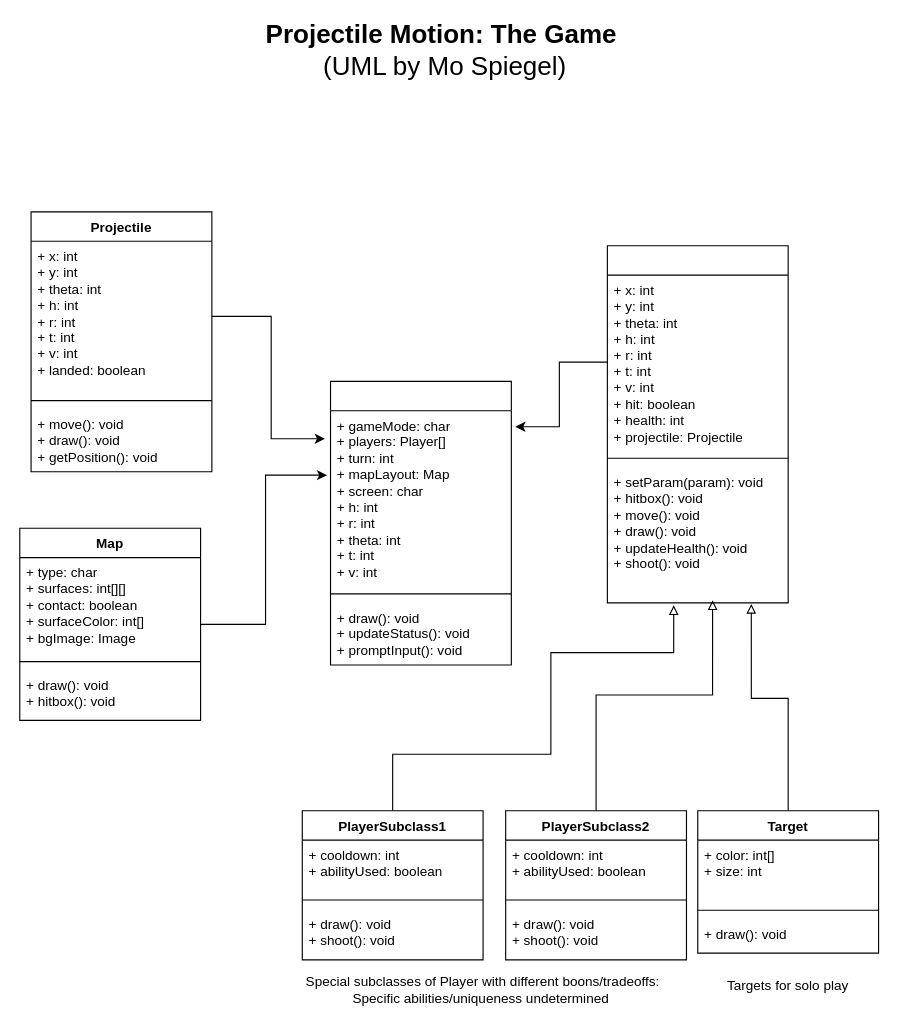
This 910x1027 diagram has some shape labels left out. Each missing label, with the box of its shape:
Player: (606, 245, 788, 603)
Projectile Motion the Game: (329, 380, 511, 665)
